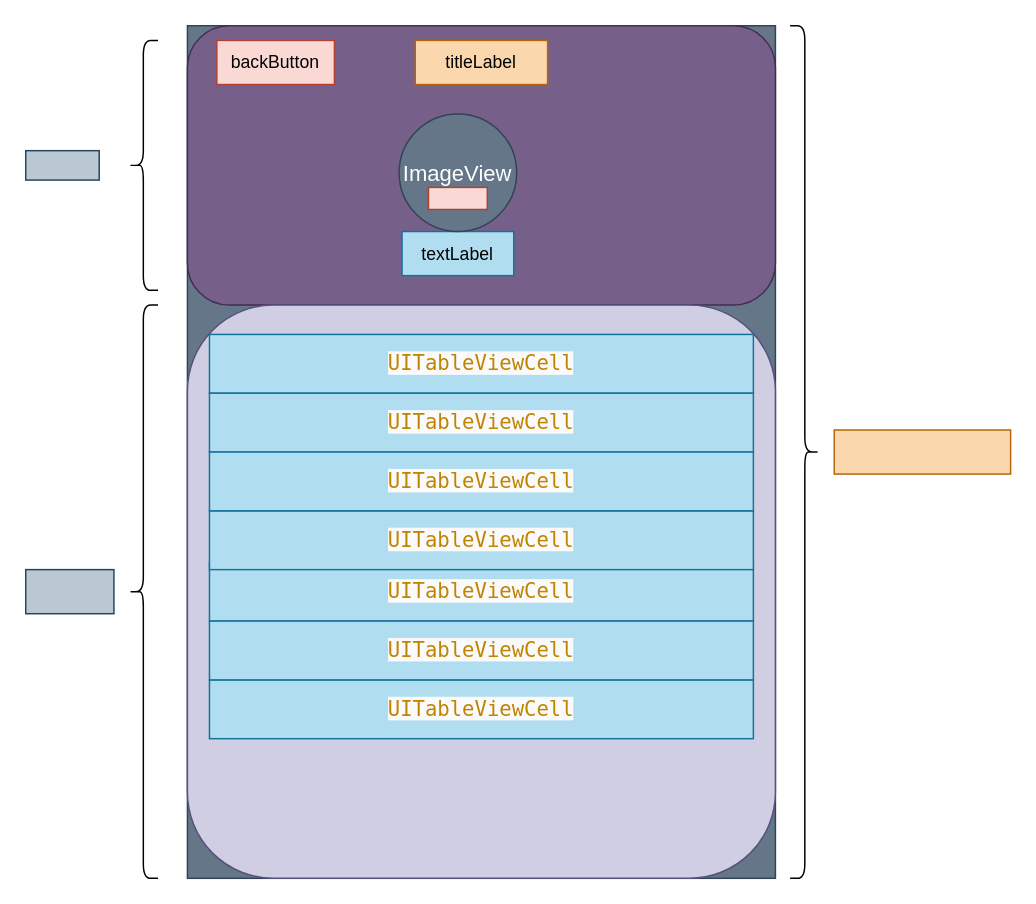
The diagram is 1036 pixels wide and 904 high, and some of its shapes have lost their labels. The centre of each missing label's shape, as x and y in pixels:
button: point (457, 197)
cells: point (69, 591)
header: point (61, 164)
UITableView: point (922, 451)
